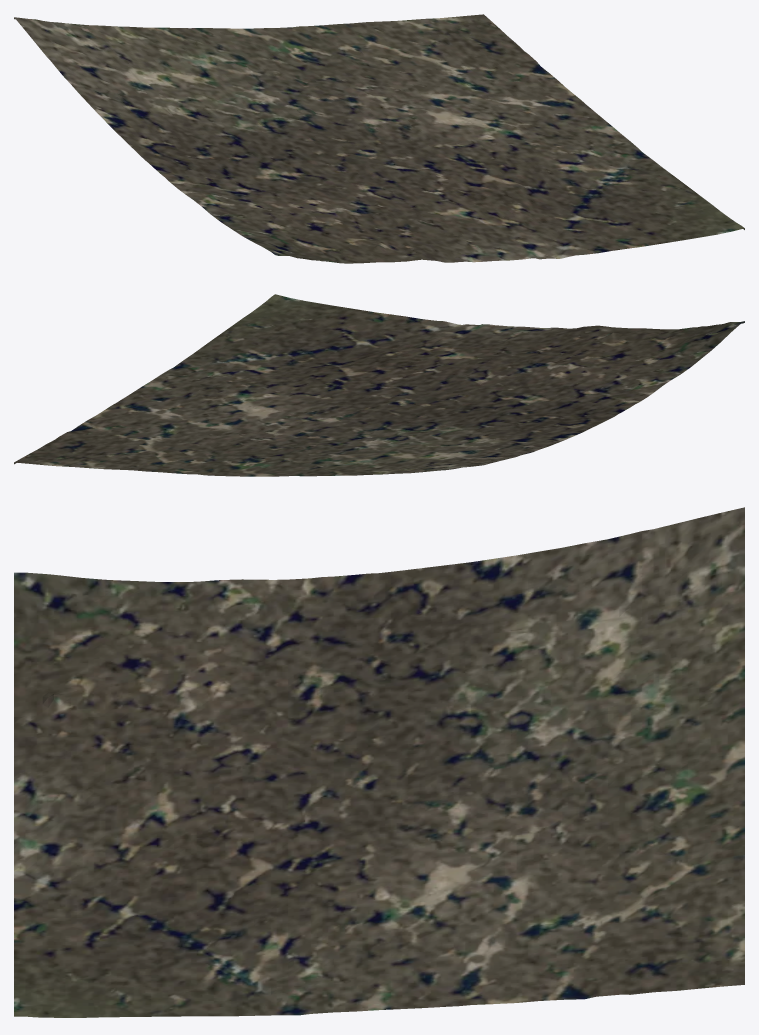
3 views of the same model, one above another, from view 1: azimuth 30°, elevation 25°; view 2: azimuth 150°, elevation 25°; view 3: azimuth 270°, elevation 25° (orthographic). The views are drawn at different scales.
Bounding box in the file's own units: 250 × 69.91 × 241.
1 material, 1 textured.
